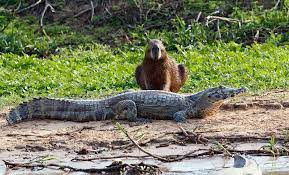capivara: (135, 39, 187, 92)
